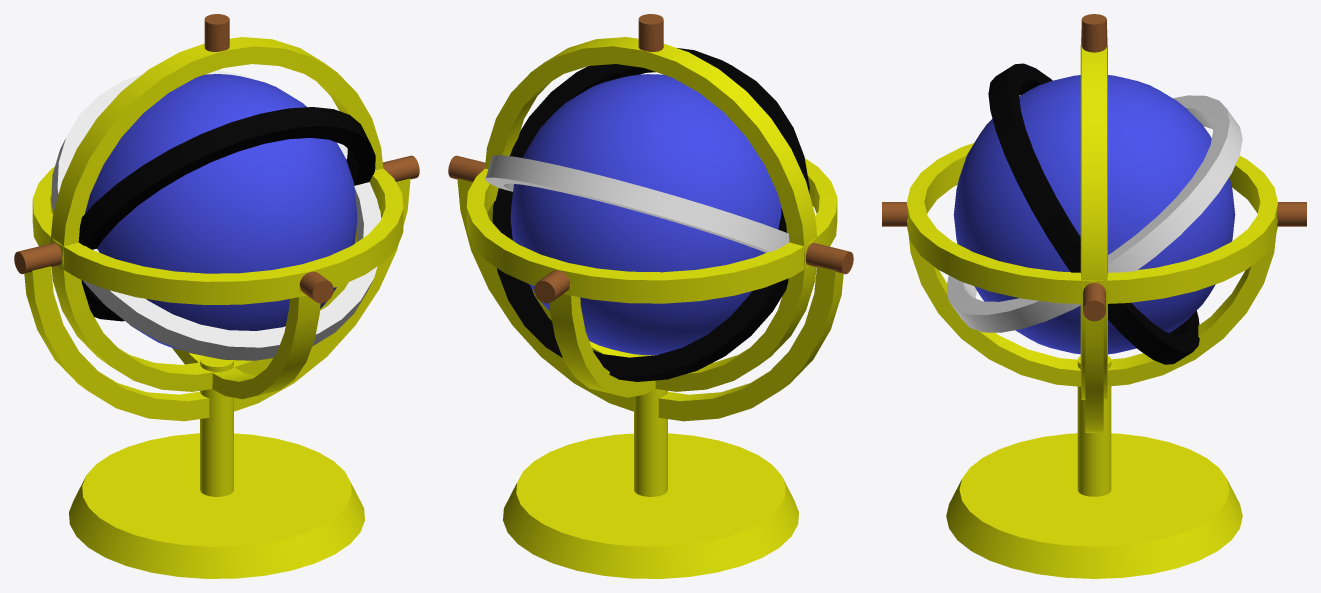
Rendered from Globe.fbx.
3 views of the same model, side by side, from view 1: azimuth 30°, elevation 25°; view 2: azimuth 150°, elevation 25°; view 3: azimuth 270°, elevation 25° (orthographic).
Visible parts, largest first — view 1: Sphere, Circle, Cylinder.003, Cylinder.002, Cylinder.005, Cylinder.004, Cylinder.001, Cylinder.006, Cylinder.009, Cylinder.010, Cylinder.008; view 2: Sphere, Circle, Cylinder.003, Cylinder.002, Cylinder.005, Cylinder.001, Cylinder.004, Cylinder.006, Cylinder.009, Cylinder.010, Cylinder.008; view 3: Circle, Sphere, Cylinder.002, Cylinder.004, Cylinder.005, Cylinder.006, Cylinder.003, Cylinder.001, Cylinder.008, Cylinder.010, Cylinder.009.
Boxes of the visible parts, x1,y1,x2,y2 form: Sphere: (85, 74, 357, 349); Circle: (69, 356, 364, 578); Cylinder.003: (50, 37, 383, 391); Cylinder.002: (32, 166, 403, 304); Cylinder.005: (78, 107, 375, 321); Cylinder.004: (51, 70, 381, 360); Cylinder.001: (24, 178, 410, 421); Cylinder.006: (172, 285, 320, 399); Cylinder.009: (14, 155, 419, 274); Cylinder.010: (204, 14, 229, 51); Cylinder.008: (299, 271, 333, 303); Sphere: (510, 74, 781, 355); Circle: (503, 354, 798, 578); Cylinder.003: (485, 37, 817, 391); Cylinder.002: (466, 158, 837, 303); Cylinder.005: (492, 48, 809, 381); Cylinder.001: (457, 178, 843, 421); Cylinder.004: (485, 155, 789, 252); Cylinder.006: (549, 284, 655, 397); Cylinder.009: (448, 155, 853, 274); Cylinder.010: (638, 14, 663, 51); Cylinder.008: (534, 270, 570, 303); Circle: (946, 356, 1242, 578); Sphere: (953, 75, 1235, 354); Cylinder.002: (906, 143, 1277, 303); Cylinder.004: (947, 95, 1242, 332); Cylinder.005: (988, 63, 1199, 364); Cylinder.006: (907, 219, 1277, 386); Cylinder.003: (1080, 29, 1107, 399); Cylinder.001: (1085, 317, 1103, 432); Cylinder.008: (882, 202, 1306, 226); Cylinder.010: (1081, 14, 1106, 52); Cylinder.009: (1083, 282, 1105, 321).
Size of the model in its own units: 306 by 370 by 286.
